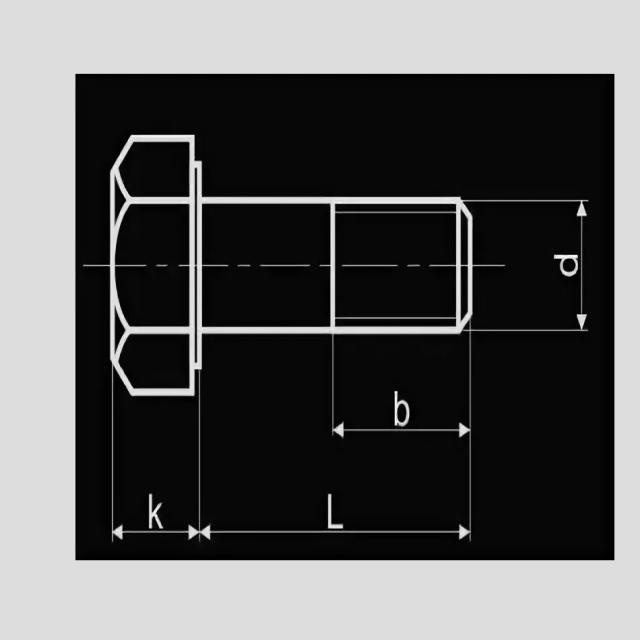marking_line: (197, 372, 475, 551), (327, 337, 477, 447), (475, 196, 591, 333), (106, 398, 202, 550)
